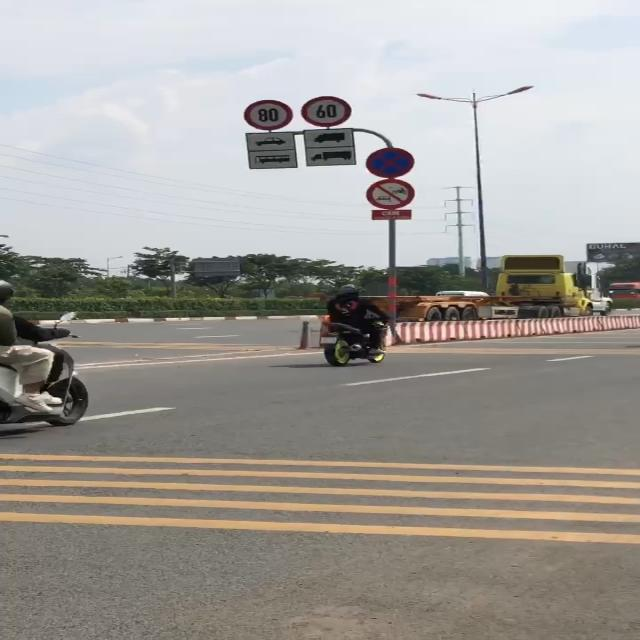Bien bao cam dung xe va do xe: (365, 146, 417, 178)
Bien bao toc do toi da cho phep: (241, 96, 296, 133), (300, 94, 355, 129)
